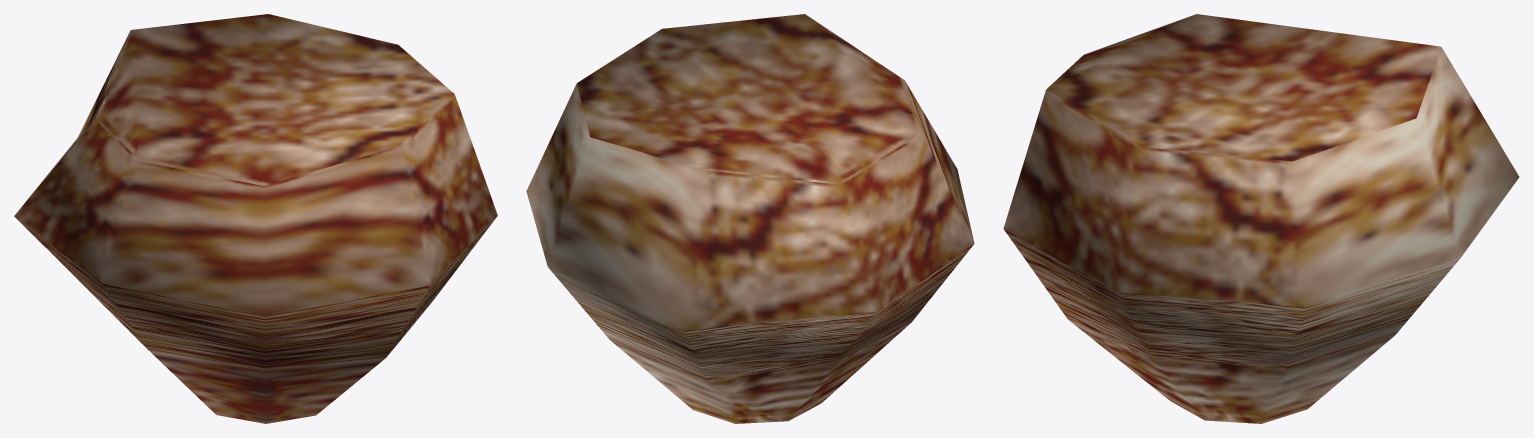
The model's file is Meat.fbx.
3 views of the same model, side by side, from view 1: azimuth 30°, elevation 25°; view 2: azimuth 150°, elevation 25°; view 3: azimuth 270°, elevation 25° (orthographic). The views are drawn at different scales.
Visible parts, largest first — view 1: ShawrmaBody.001; view 2: ShawrmaBody.001; view 3: ShawrmaBody.001.
Boxes of the visible parts, x1,y1,x2,y2 form: ShawrmaBody.001: (14, 14, 497, 423); ShawrmaBody.001: (526, 14, 974, 423); ShawrmaBody.001: (1003, 14, 1519, 423).
Bounding box in the file's own units: 136 × 101 × 146.
